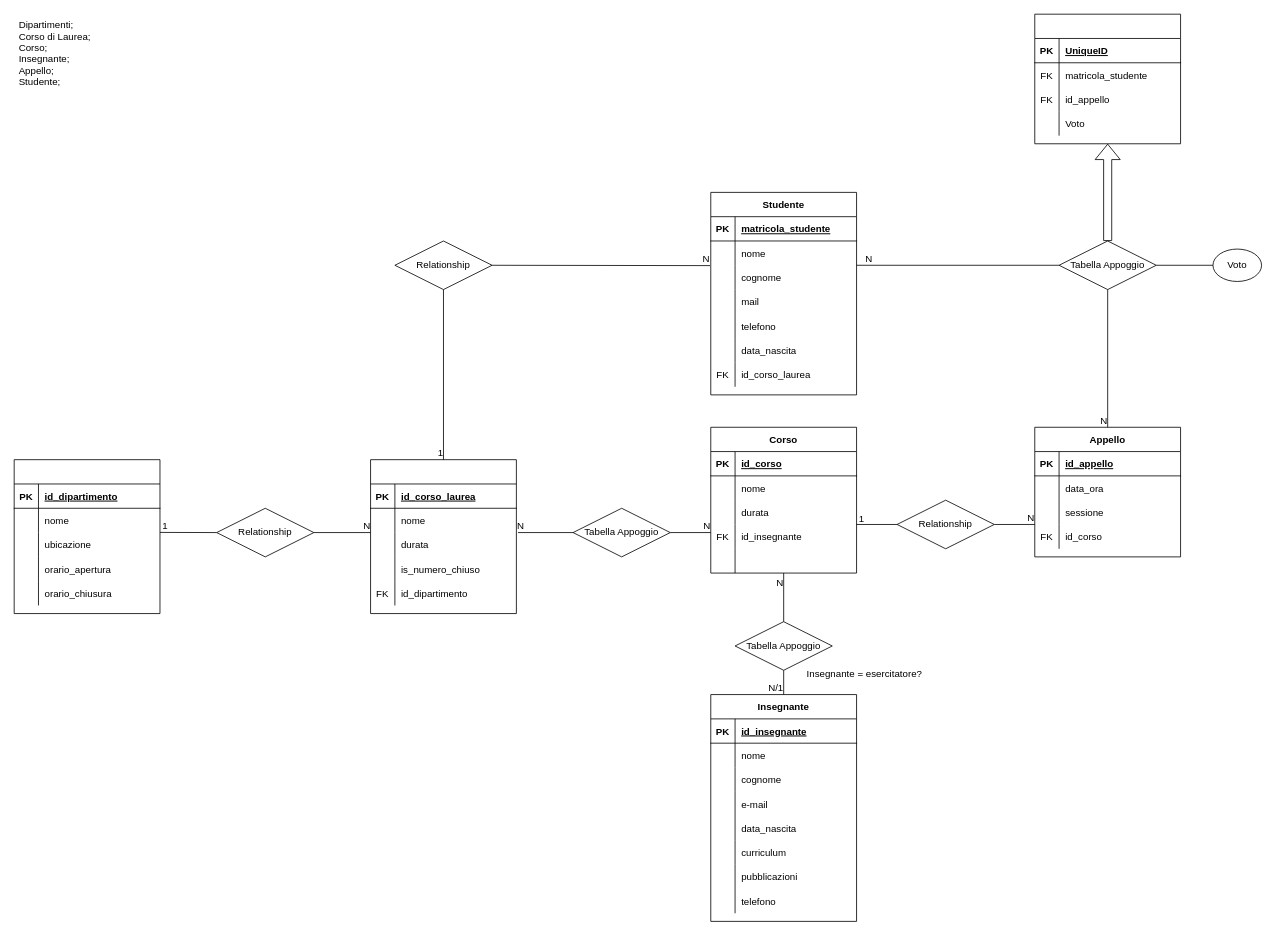
This 1276x936 diagram has some shape labels left out. The box of each missing label's shape, as (x1, y1, x2, y2) in pixels:
Corso di Laurea: (370, 459, 516, 614)
Dipartimenti: (13, 459, 160, 614)
Studente_Appello: (1034, 13, 1181, 144)
